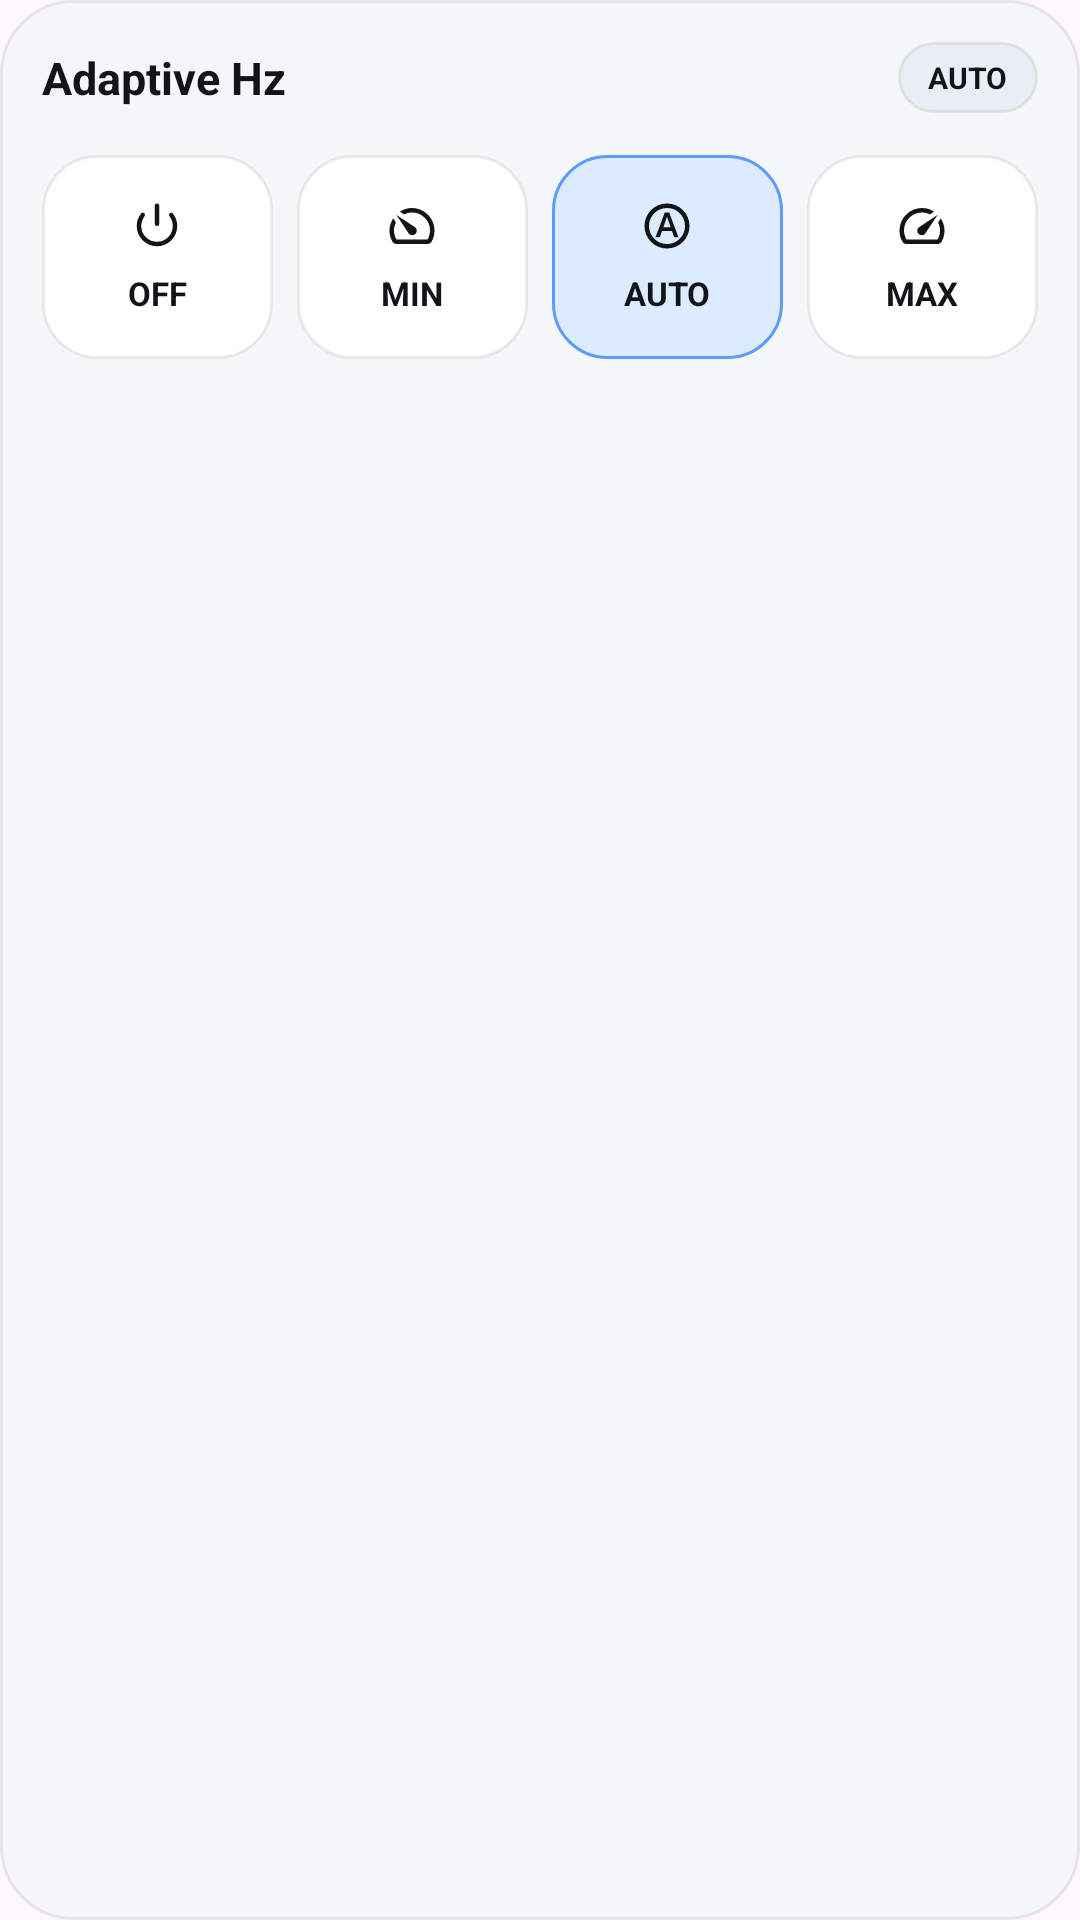

Locate icon controls on the screen. Image size 1080 × 1920, boxes as {"x1": x1, "y1": y1, "x2": x2, "y2": y2}.
Adaptive: {"x1": 644, "y1": 203, "x2": 690, "y2": 249}
